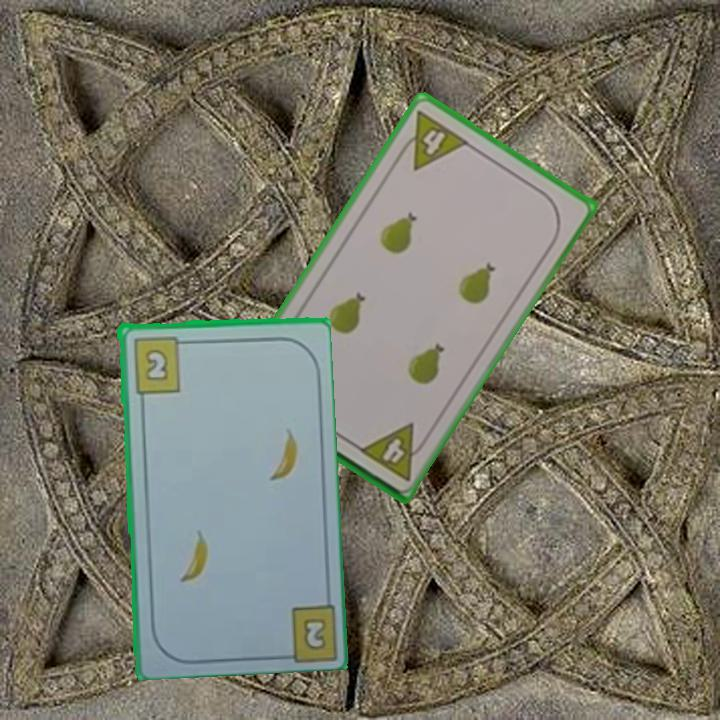2b: (129, 332, 190, 395), (299, 614, 329, 653)
4p: (392, 106, 472, 173), (355, 419, 432, 484)
